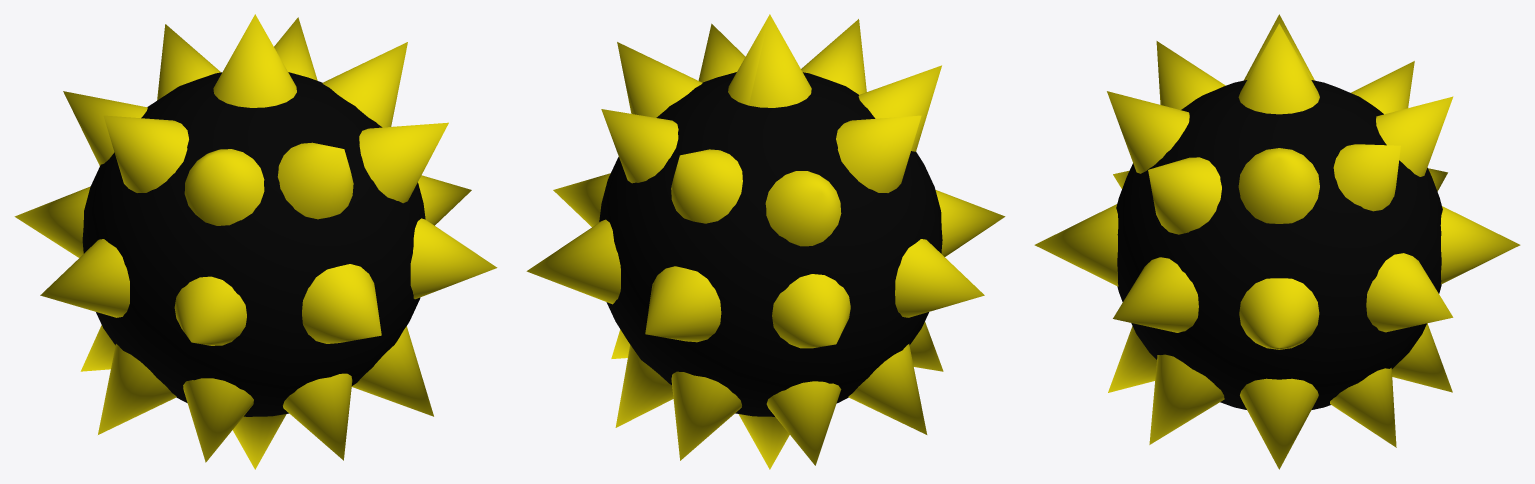
Rendered from Needle.fbx.
3 renders of one model, left to right at view 1: azimuth 30°, elevation 25°; view 2: azimuth 150°, elevation 25°; view 3: azimuth 270°, elevation 25°, orthographic. The views are drawn at different scales.
Parts seen in each view (by area): view 1: pCone27; view 2: pCone27; view 3: pCone27.
Part boxes in pixels (x1,y1,x2,y2): pCone27: [14, 14, 497, 469]; pCone27: [526, 14, 1005, 469]; pCone27: [1034, 14, 1520, 469].
Size of the model in its own units: 0.732 by 0.7381 by 0.7372.
